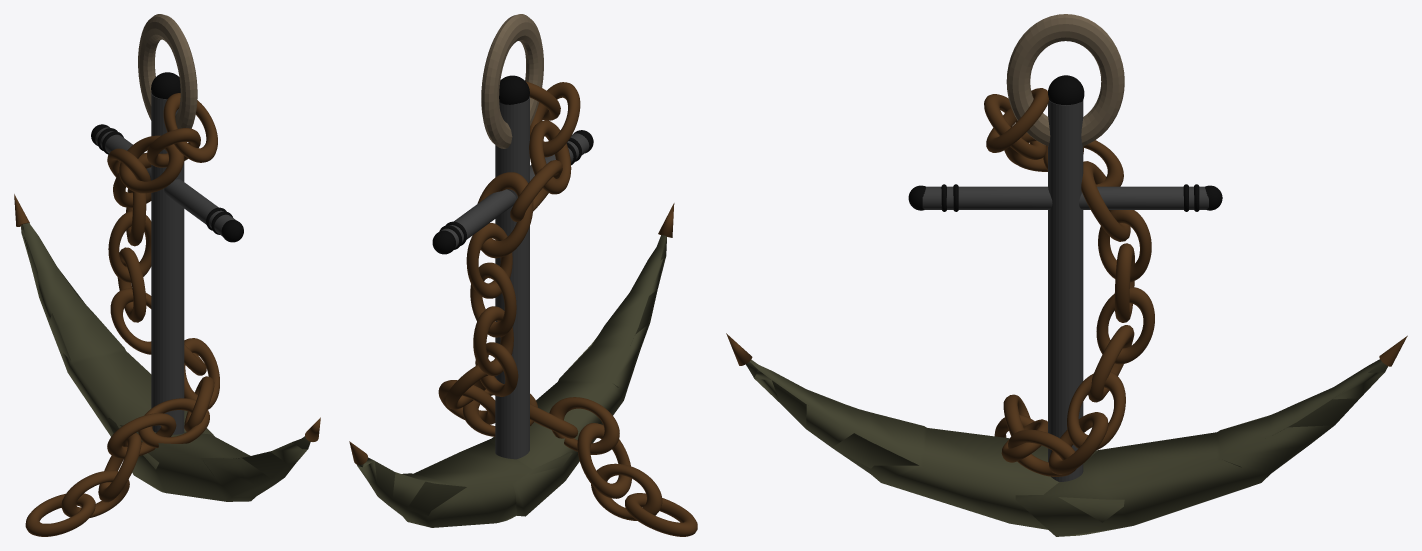
The model's file is Anchor.glb.
The picture shows the model from 3 angles, left to right: view 1: azimuth 30°, elevation 25°; view 2: azimuth 150°, elevation 25°; view 3: azimuth 270°, elevation 25°; orthographic projection. The views are drawn at different scales.
Parts seen in each view (by area): view 1: Cube, Cylinder, Cube.001, Torus, Cylinder.001, Torus.018, Torus.005, Torus.019, Torus.015, Torus.008, Torus.014, Torus.017 (+12 smaller); view 2: Cube.001, Cube, Cylinder, Torus, Cylinder.001, Torus.016, Torus.006, Torus.018, Torus.015, Torus.017, Torus.008, Torus.007 (+12 smaller); view 3: Cube, Cube.001, Cylinder, Torus, Cylinder.001, Torus.009, Torus.011, Torus.007, Torus.012, Torus.006, Torus.019, Torus.013 (+5 smaller).
Part boxes in pixels (x1,y1,x2,y2): Cube: (21,223,214,469); Cylinder: (151,93,184,434); Cube.001: (106,418,310,501); Torus: (138,14,197,128); Cylinder.001: (95,127,236,236); Torus.018: (25,493,95,536); Torus.005: (119,135,184,193); Torus.019: (163,93,217,162); Torus.015: (107,413,176,458); Torus.008: (108,210,151,282); Torus.014: (138,398,209,448); Torus.017: (61,470,129,517); Cube.001: (489,235,666,516); Cube: (357,439,572,527); Cylinder: (495,96,529,459); Torus: (481,14,543,148); Cylinder.001: (440,133,589,247); Torus.016: (577,423,631,498); Torus.006: (477,172,533,258); Torus.018: (625,493,697,536); Torus.015: (549,397,619,454); Torus.017: (591,463,662,520); Torus.008: (470,262,516,337); Torus.007: (466,223,512,298); Cube: (1015,359,1387,536); Cube.001: (746,359,1124,534); Cylinder: (1048,100,1083,481); Torus: (1006,14,1124,146); Cylinder.001: (922,186,1208,209); Torus.009: (1096,287,1154,364); Torus.011: (1067,372,1125,450); Torus.007: (1098,210,1151,282); Torus.012: (1049,412,1108,474); Torus.006: (1081,161,1130,241); Torus.019: (986,88,1048,152); Torus.013: (1008,429,1076,476).
Size of the model in its own units: 2.51 by 5.26 by 6.23.
